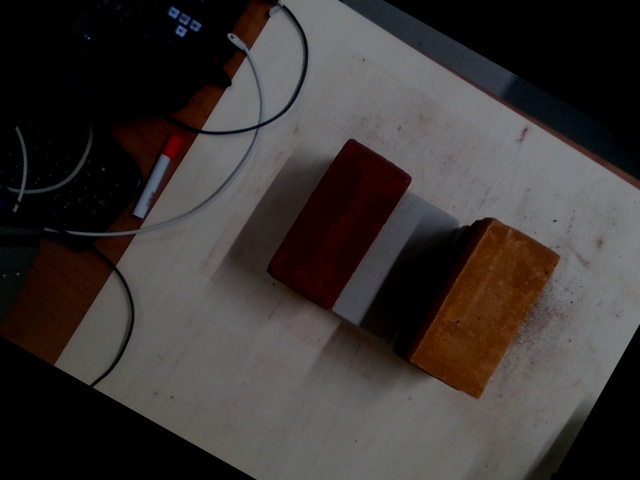brick: (411, 220, 558, 400), (264, 138, 412, 309), (332, 189, 461, 344)
